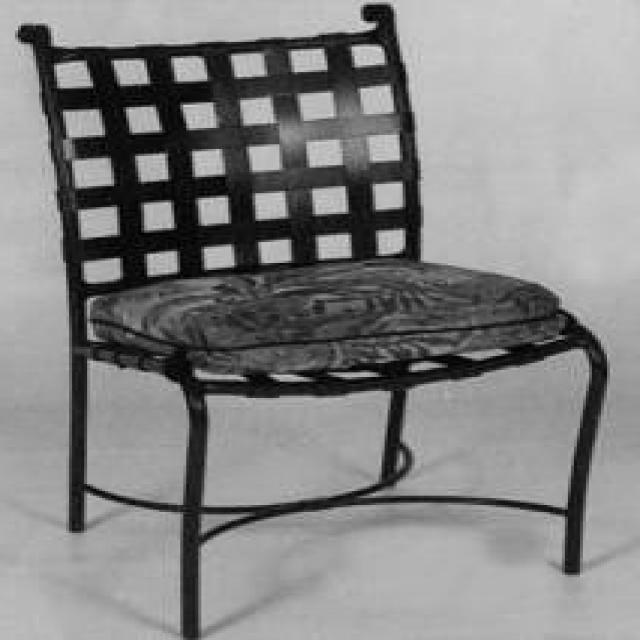chair: (15, 1, 610, 636)
